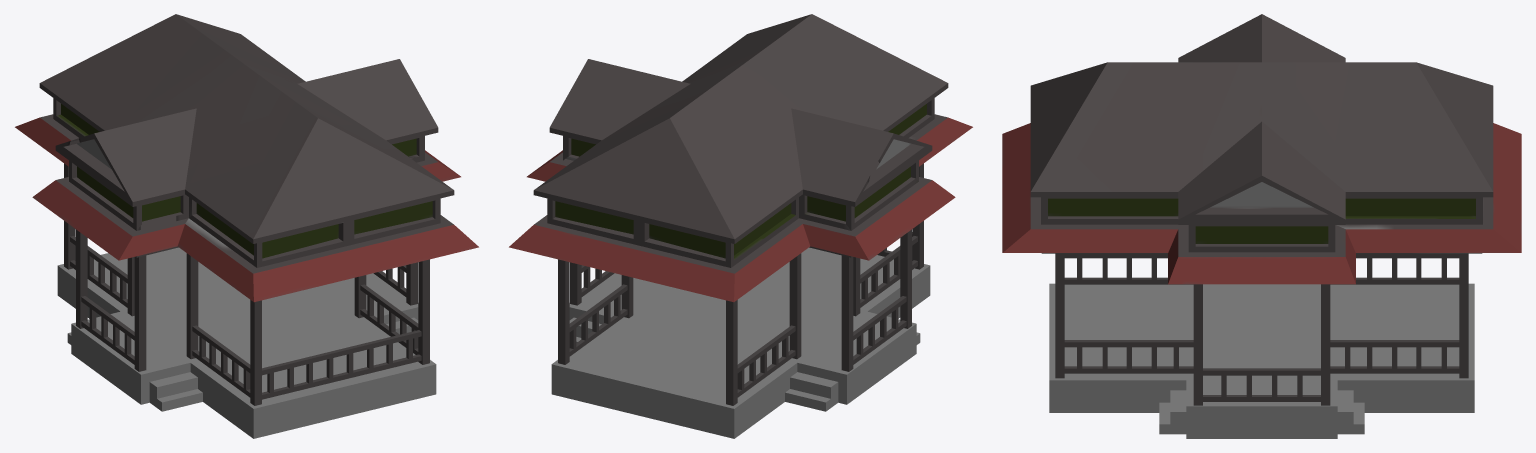
Rendered from B_Manis.fbx.
3 renders of one model, left to right at view 1: azimuth 30°, elevation 25°; view 2: azimuth 150°, elevation 25°; view 3: azimuth 270°, elevation 25°, orthographic. The views are drawn at different scales.
Parts seen in each view (by area): view 1: B_Manis; view 2: B_Manis; view 3: B_Manis.
Part boxes in pixels (x1,y1,x2,y2): B_Manis: (15,14,478,438); B_Manis: (509,14,972,438); B_Manis: (1002,14,1521,438).
Size of the model in its own units: 381 by 296 by 461.
Materials: 1 (1 with a texture image).
